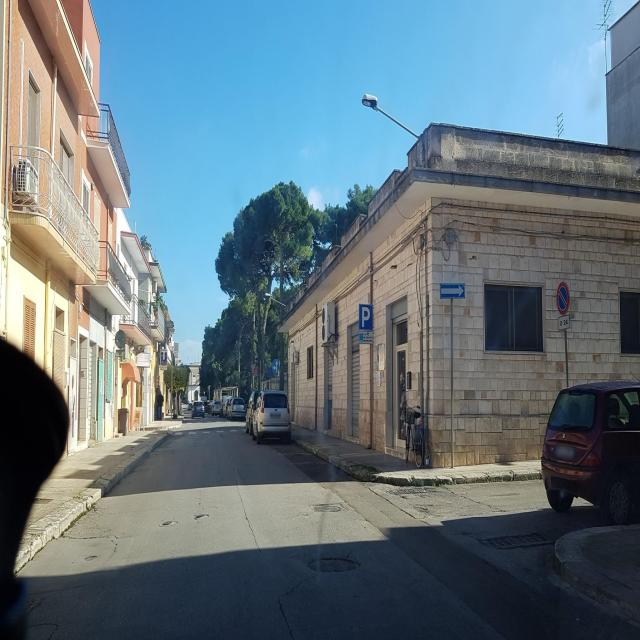forb_stopping: (556, 282, 570, 316)
